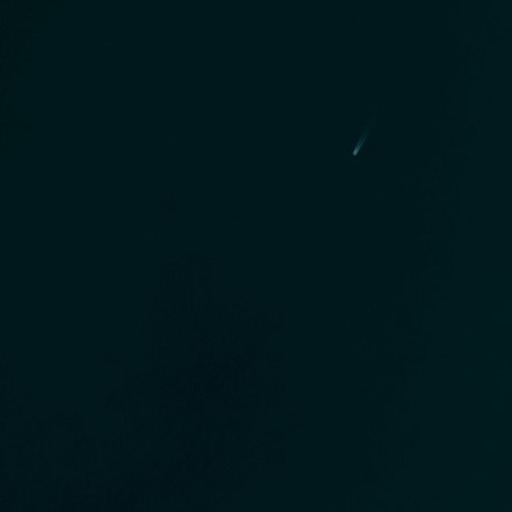ship: (350, 142, 362, 159)
